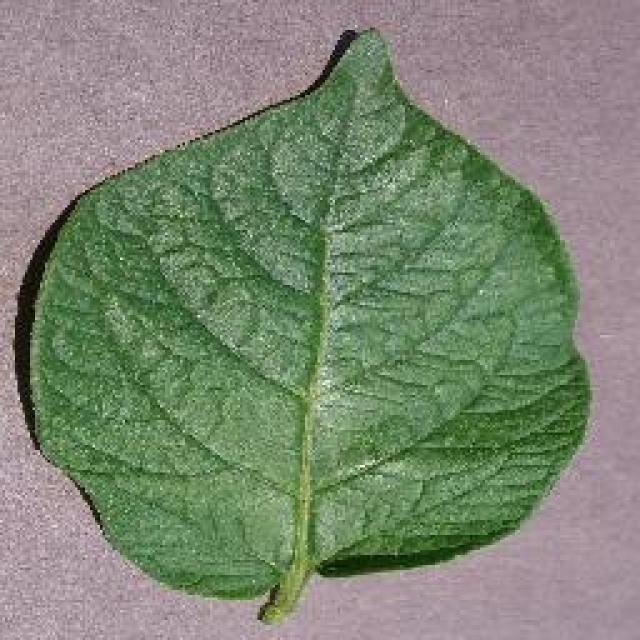healthy: (10, 22, 595, 622)
